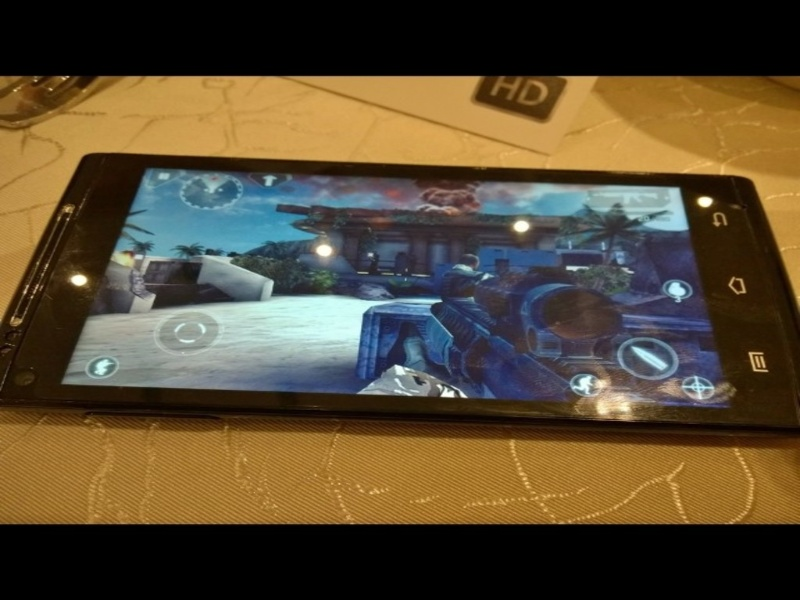cellphone: (18, 134, 800, 453)
